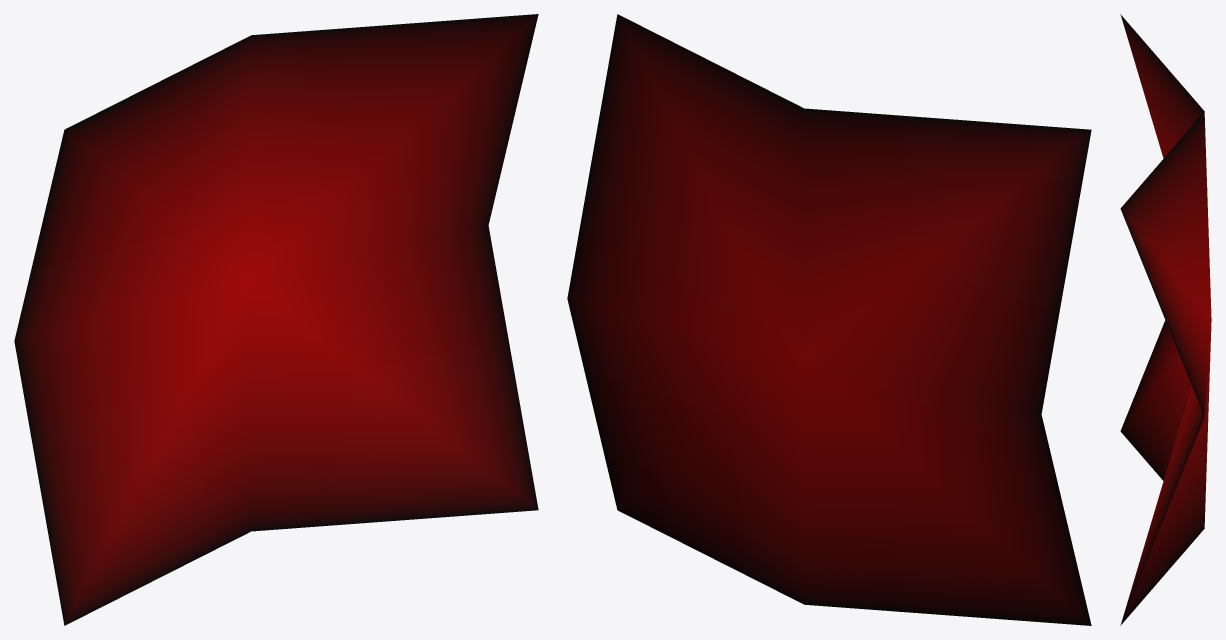
The model's file is SM_Spider_Web_A.fbx.
3 renders of one model, left to right at view 1: azimuth 30°, elevation 25°; view 2: azimuth 150°, elevation 25°; view 3: azimuth 270°, elevation 25°, orthographic. The views are drawn at different scales.
Visible parts, largest first — view 1: SM_Spider_Web_A_LOD0; view 2: SM_Spider_Web_A_LOD0; view 3: SM_Spider_Web_A_LOD0.
Part boxes in pixels (box(x1,y1,x2,y2)): SM_Spider_Web_A_LOD0: box(14, 14, 538, 625); SM_Spider_Web_A_LOD0: box(567, 14, 1091, 625); SM_Spider_Web_A_LOD0: box(1120, 14, 1211, 625).
Size of the model in its own units: 45.99 by 9.1 by 45.99.
